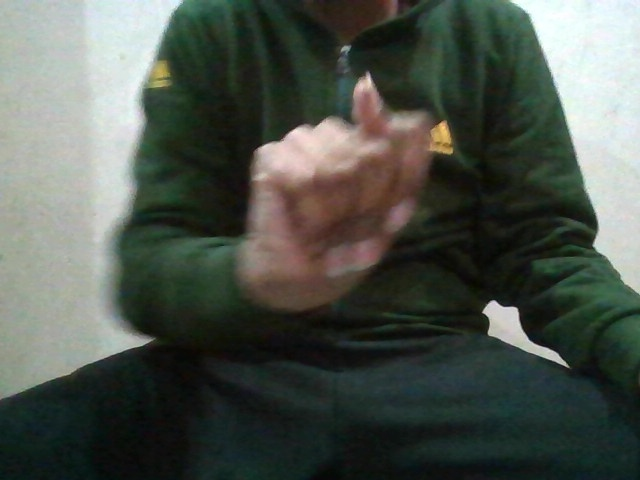T: (238, 67, 426, 286)
